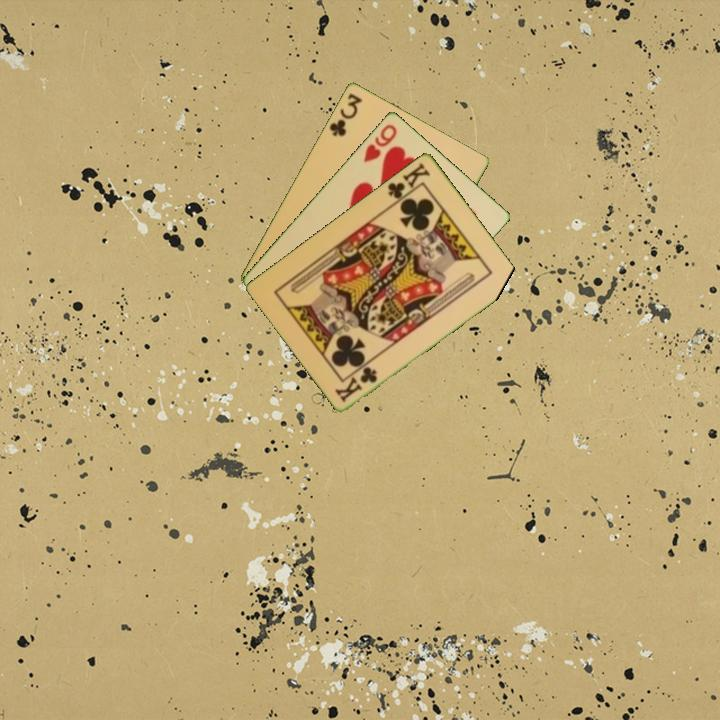3c: (325, 89, 365, 139)
9h: (360, 120, 400, 165)
Kc: (384, 159, 433, 207), (332, 362, 380, 405)
